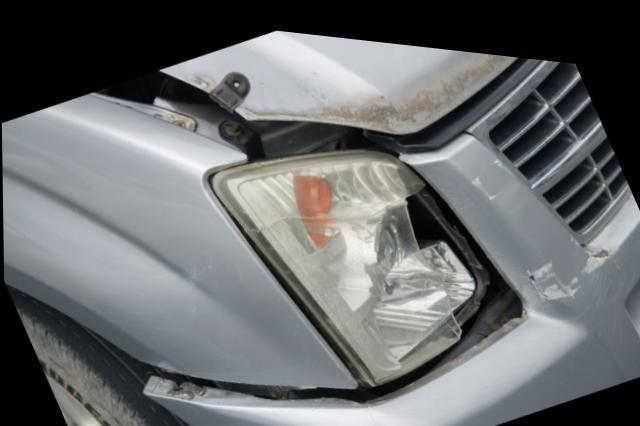dislocated part: (81, 24, 532, 147)
lamp broken: (209, 139, 500, 378)
scratch: (521, 232, 612, 292)
